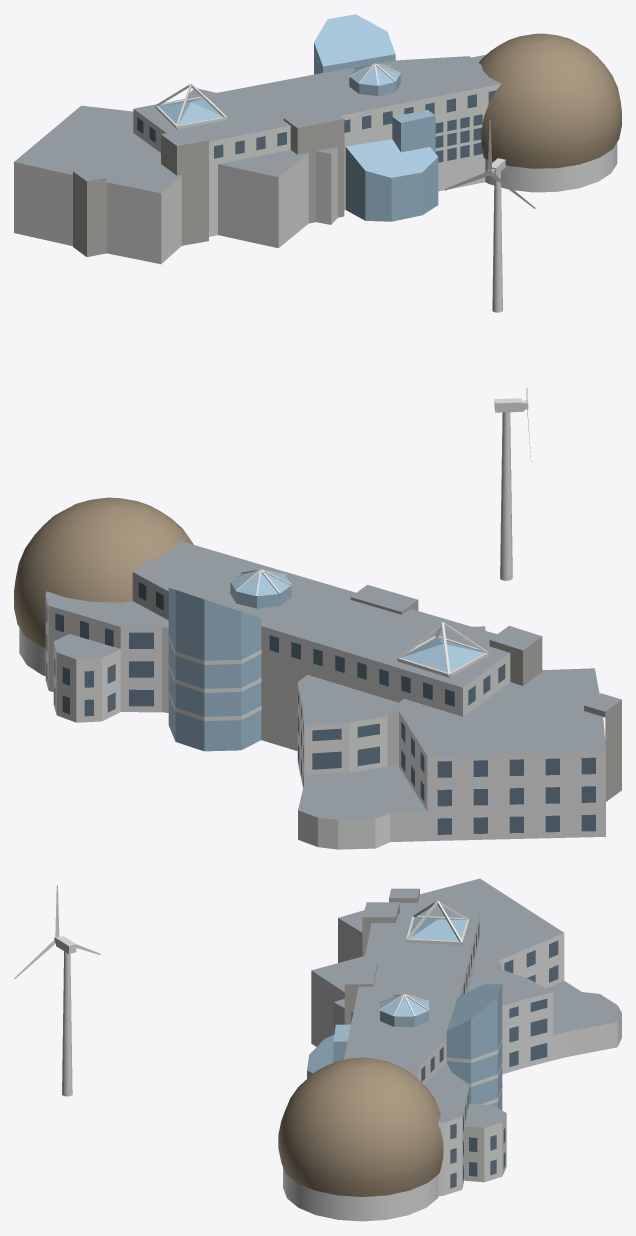
File: cle-great-lakes-science-center.glb
3 views of the same model, one above another, from view 1: azimuth 30°, elevation 25°; view 2: azimuth 150°, elevation 25°; view 3: azimuth 270°, elevation 25° (orthographic). The views are drawn at different scales.
Parts seen in each view (by area): view 1: Great Lakes Science Center; view 2: Great Lakes Science Center; view 3: Great Lakes Science Center.
Part boxes in pixels (x1,y1,x2,y2): Great Lakes Science Center: [14, 14, 621, 312]; Great Lakes Science Center: [14, 388, 621, 849]; Great Lakes Science Center: [14, 878, 621, 1221].
Size of the model in its own units: 145 by 50.4 by 137.
